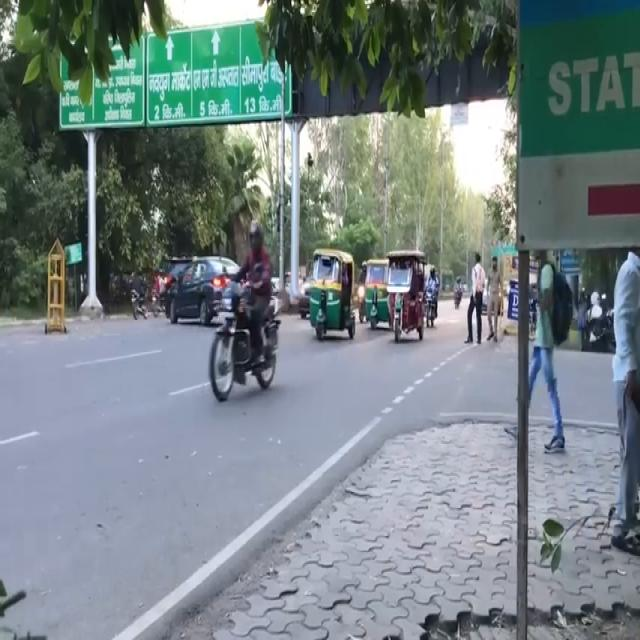MOTORCYCLE: (207, 276, 279, 404)
